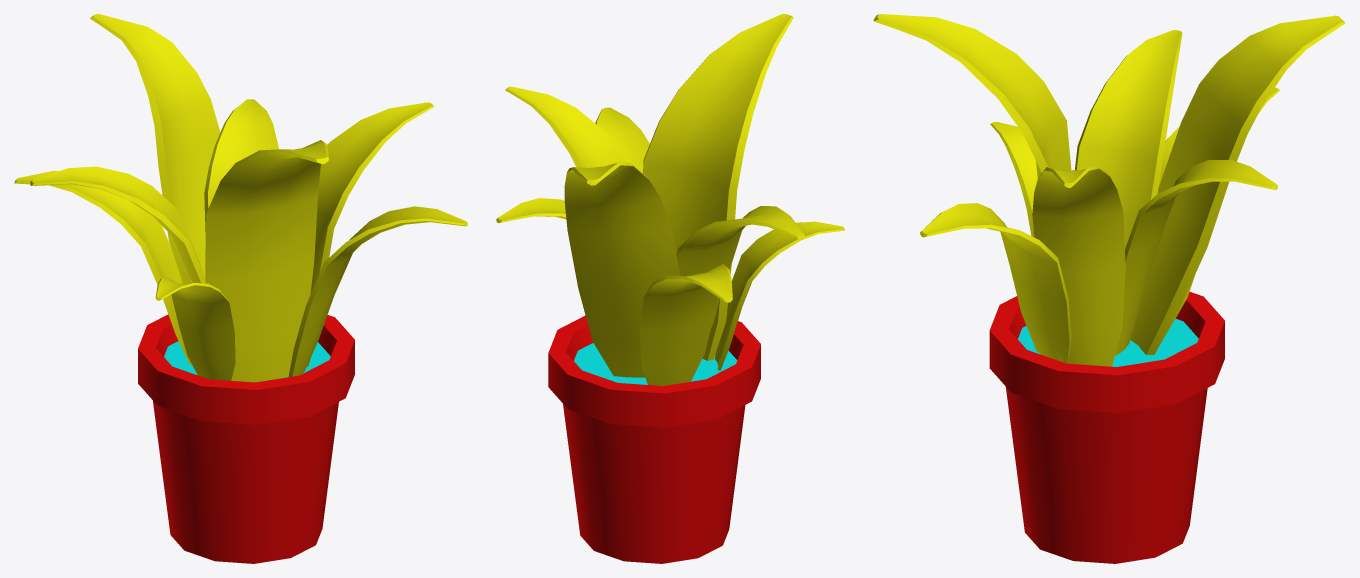
File: Plant.fbx
The picture shows the model from 3 angles, left to right: view 1: azimuth 30°, elevation 25°; view 2: azimuth 150°, elevation 25°; view 3: azimuth 270°, elevation 25°; orthographic projection. The views are drawn at different scales.
Visible parts, largest first — view 1: Plant; view 2: Plant; view 3: Plant.
Boxes of the visible parts, <box> form: Plant: <box>14,14,467,563</box>; Plant: <box>496,14,844,563</box>; Plant: <box>873,14,1345,563</box>.
Size of the model in its own units: 100 by 124 by 107.
